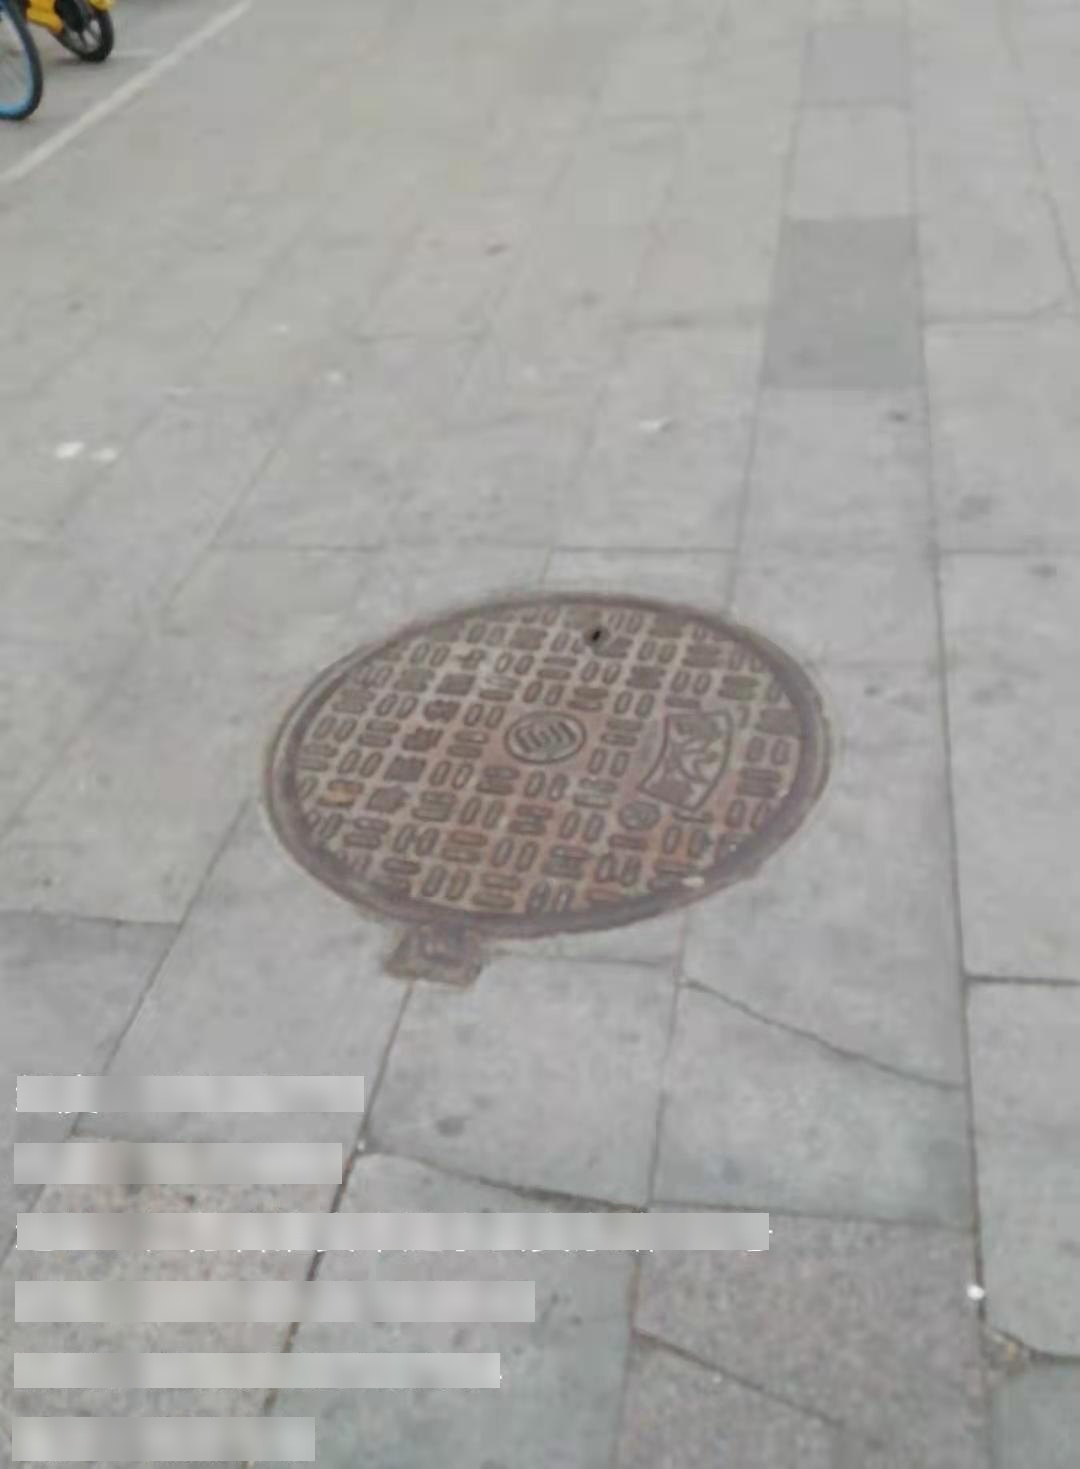good: (265, 585, 833, 993)
